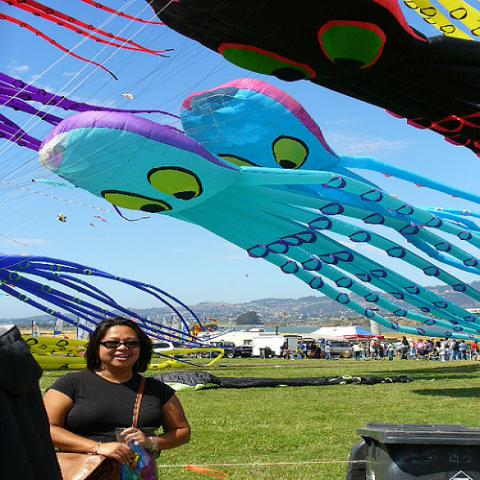truck: (222, 347, 251, 358)
